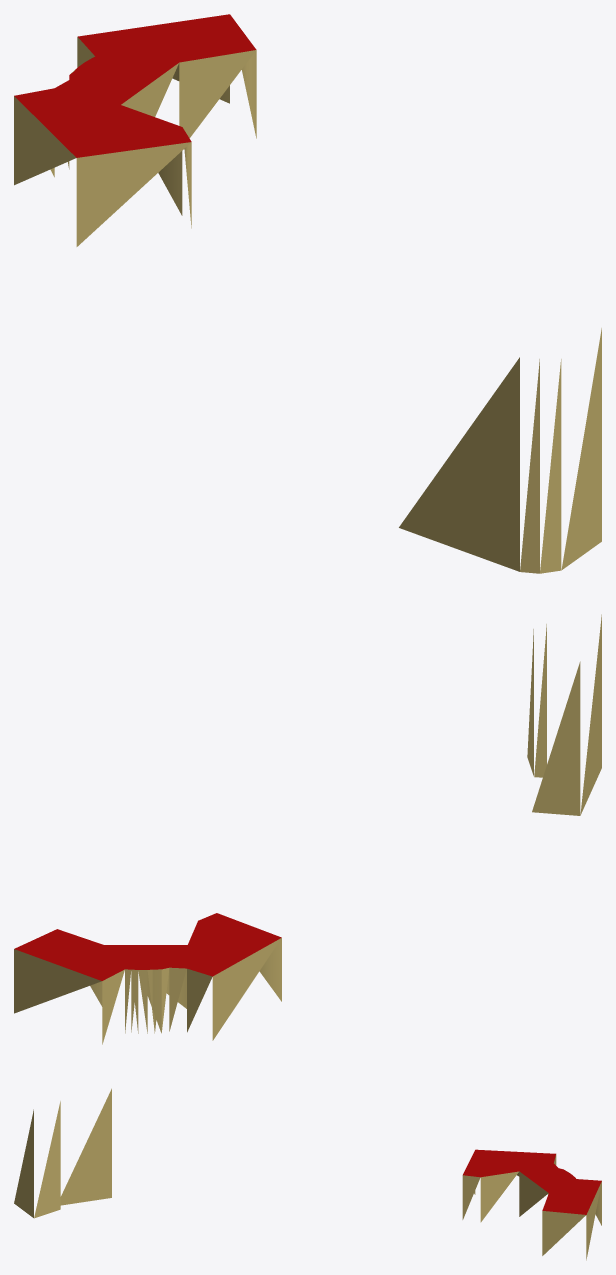
3 renders of one model, top to bottom at view 1: azimuth 30°, elevation 25°; view 2: azimuth 150°, elevation 25°; view 3: azimuth 270°, elevation 25°, orthographic. The views are drawn at different scales.
Bounding box in the file's own units: 135 × 90 × 437.
